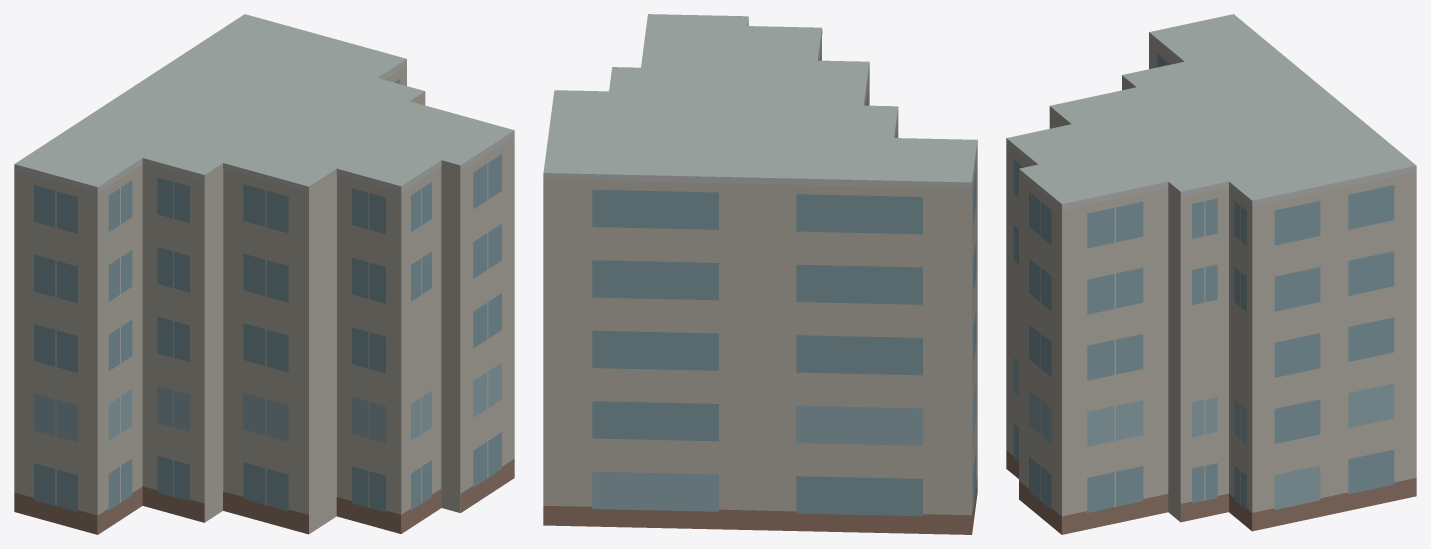
The model's file is survey-upis-32620880.glb.
3 renders of one model, left to right at view 1: azimuth 30°, elevation 25°; view 2: azimuth 150°, elevation 25°; view 3: azimuth 270°, elevation 25°, orthographic. The views are drawn at different scales.
Visible parts, largest first — view 1: survey-upis-32620880.tmp; view 2: survey-upis-32620880.tmp; view 3: survey-upis-32620880.tmp.
Boxes of the visible parts, x1,y1,x2,y2 form: survey-upis-32620880.tmp: (14,14,514,534); survey-upis-32620880.tmp: (543,14,977,534); survey-upis-32620880.tmp: (1006,14,1416,534).
Bounding box in the file's own units: 16.67 × 13.5 × 15.19.
